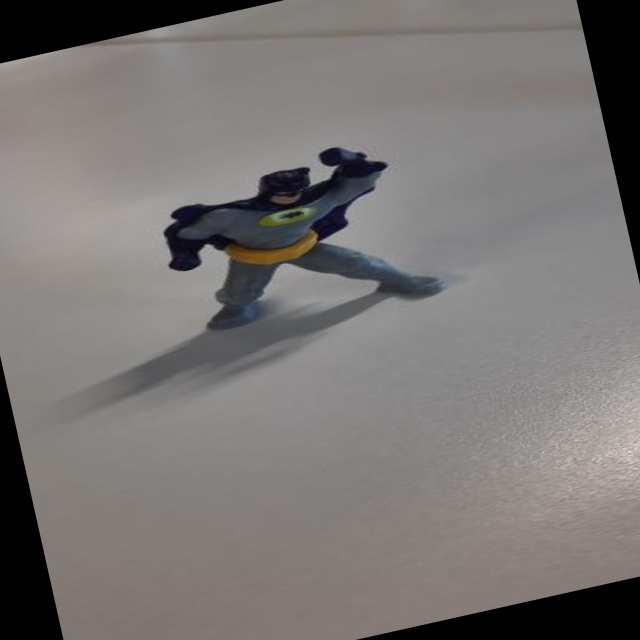Batman: (127, 130, 466, 369)
